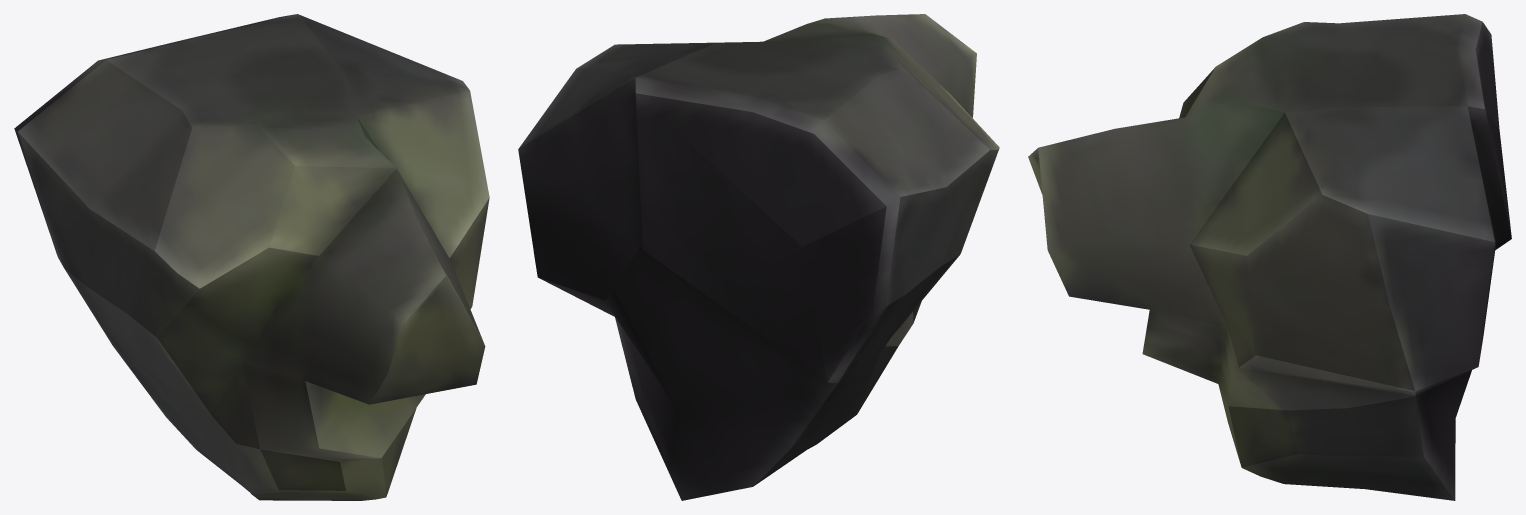
File: Rock_2.glb
The picture shows the model from 3 angles, left to right: view 1: azimuth 30°, elevation 25°; view 2: azimuth 150°, elevation 25°; view 3: azimuth 270°, elevation 25°; orthographic projection. The views are drawn at different scales.
Parts seen in each view (by area): view 1: Rock_2; view 2: Rock_2; view 3: Rock_2.
Boxes of the visible parts, <box> form: Rock_2: <box>14,14,489,500</box>; Rock_2: <box>518,14,999,500</box>; Rock_2: <box>1028,14,1511,500</box>.
Bounding box in the file's own units: 1.05 × 1.08 × 1.12.
1 material, 1 textured.
